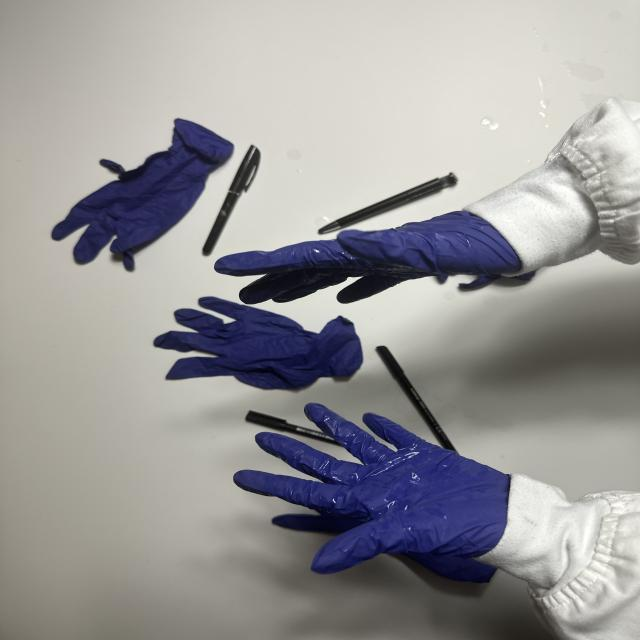gloves_contaminated: (234, 403, 510, 574), (215, 212, 521, 304)
